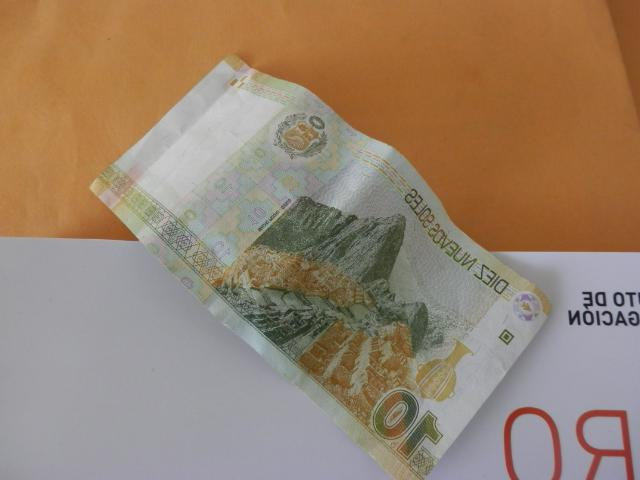B10: (88, 56, 550, 480)
